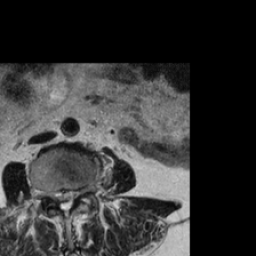CCS_normal: (61, 183, 69, 220)
LFS_stenosis: (77, 182, 85, 202)
LLS_normal: (69, 184, 77, 206)
RFS_stenosis: (44, 183, 53, 202)
RLS_normal: (53, 183, 61, 209)
